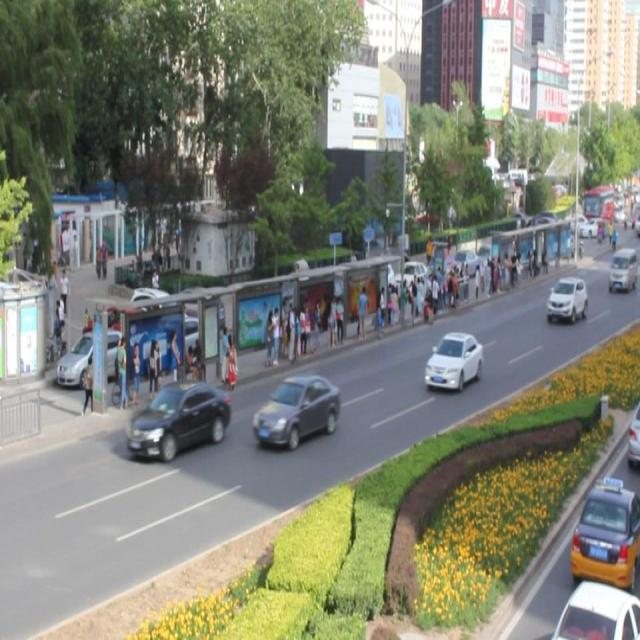car: (129, 378, 231, 456), (255, 370, 339, 445), (425, 328, 482, 388), (546, 273, 586, 321)
